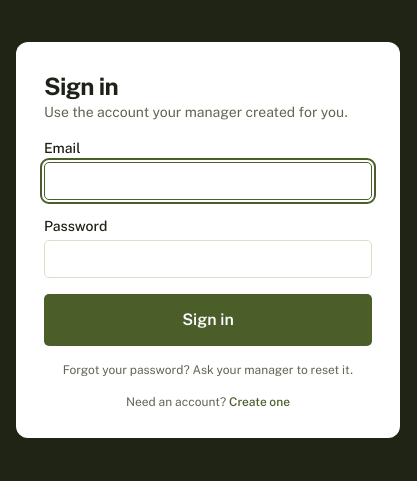
Test: signing in › sends the trimmed email and password and shows a wrong-password message
Type " ann@shop.test " into the field labelled "Email".
click(208, 181); type(" ann@shop.test ")  # box [44,162,372,200]
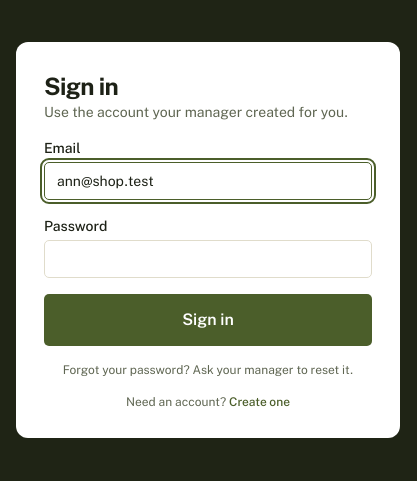
Type "pass-word-1" into the password field labelled "Password".
click(208, 259); type("pass-word-1")  # box [44,240,372,278]
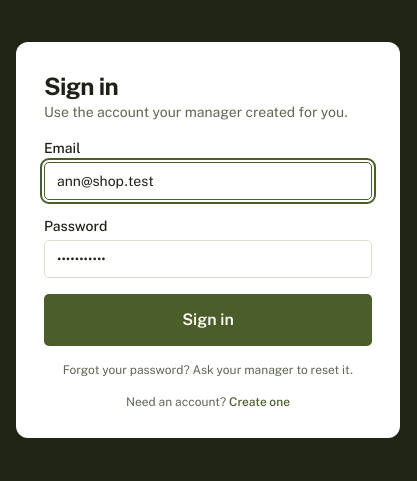
Click the button "Sign in".
click(208, 320)  # box [44,294,372,346]
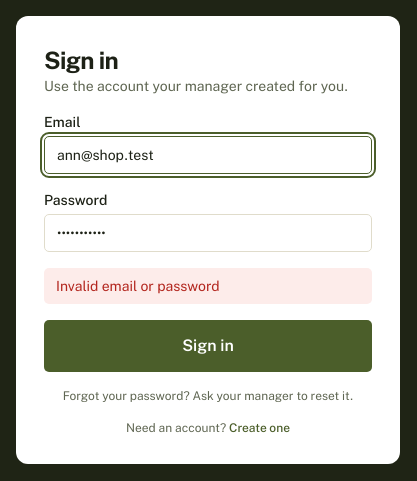
expect the text "Forgot your password? Ask your manager to reset it." is shown: met, box [44,388,372,404]
expect the message reads "Invalid email or password": met, box [56,278,220,294]
